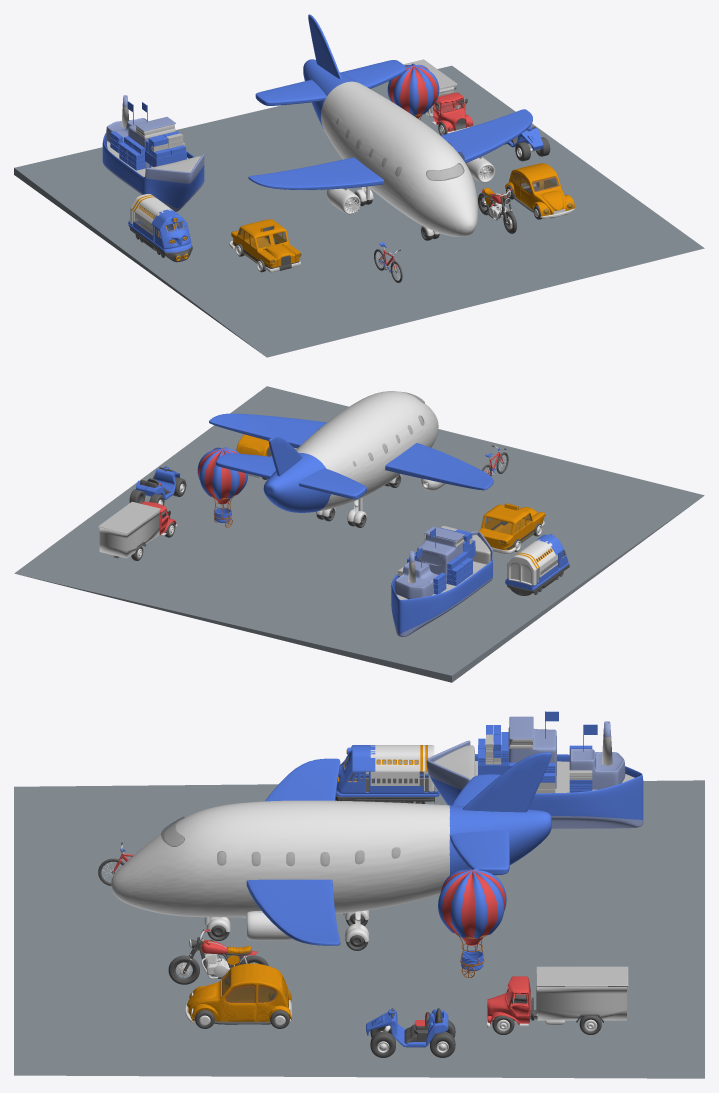
The model's file is transportation-network-3d-animated-icon-801169617149.glb.
The picture shows the model from 3 angles, top to bottom: view 1: azimuth 30°, elevation 25°; view 2: azimuth 150°, elevation 25°; view 3: azimuth 270°, elevation 25°; orthographic projection. The views are drawn at different scales.
Parts seen in each view (by area): view 1: plane, airplane.004, cargo, train.005, car.021, taxi.029, hot air balloon, truck.017, motorcycle; view 2: plane, airplane.004, cargo, truck.017, train.005, taxi.029, hot air balloon, quad bike.020, car.021, train, quad bike.004; view 3: plane, airplane.004, cargo, truck.017, car.021, train.005, hot air balloon, motorcycle, quad bike.020, train, quad bike.004, truck.034 (+1 smaller).
Part boxes in pixels (box(x1,y1,x2,y2)): plane: box(14, 65, 704, 357); airplane.004: box(248, 14, 532, 240); cargo: box(102, 95, 204, 211); train.005: box(129, 194, 192, 262); car.021: box(505, 163, 574, 218); taxi.029: box(229, 219, 301, 272); hot air balloon: box(387, 63, 439, 120); truck.017: box(403, 59, 473, 133); motorcycle: box(478, 188, 516, 233); plane: box(14, 386, 704, 682); airplane.004: box(209, 391, 493, 527); cargo: box(391, 526, 492, 636); truck.017: box(98, 501, 177, 558); train.005: box(507, 534, 569, 595); taxi.029: box(478, 503, 545, 553); hot air balloon: box(197, 447, 247, 527); quad bike.020: box(136, 466, 180, 499); car.021: box(236, 434, 271, 477); train: box(505, 535, 565, 590); quad bike.004: box(129, 475, 186, 505); plane: box(14, 780, 704, 1078); airplane.004: box(111, 752, 551, 950); cargo: box(426, 711, 643, 828); truck.017: box(486, 966, 628, 1027); car.021: box(185, 963, 291, 1024); train.005: box(335, 745, 434, 803); hot air balloon: box(438, 867, 506, 977); motorcycle: box(168, 929, 268, 984); quad bike.020: box(366, 1008, 448, 1047); train: box(343, 745, 439, 796); quad bike.004: box(370, 1020, 455, 1057); truck.034: box(492, 1015, 601, 1034).
Bounding box in the file's own units: 2.24 × 0.7014 × 2.24.
